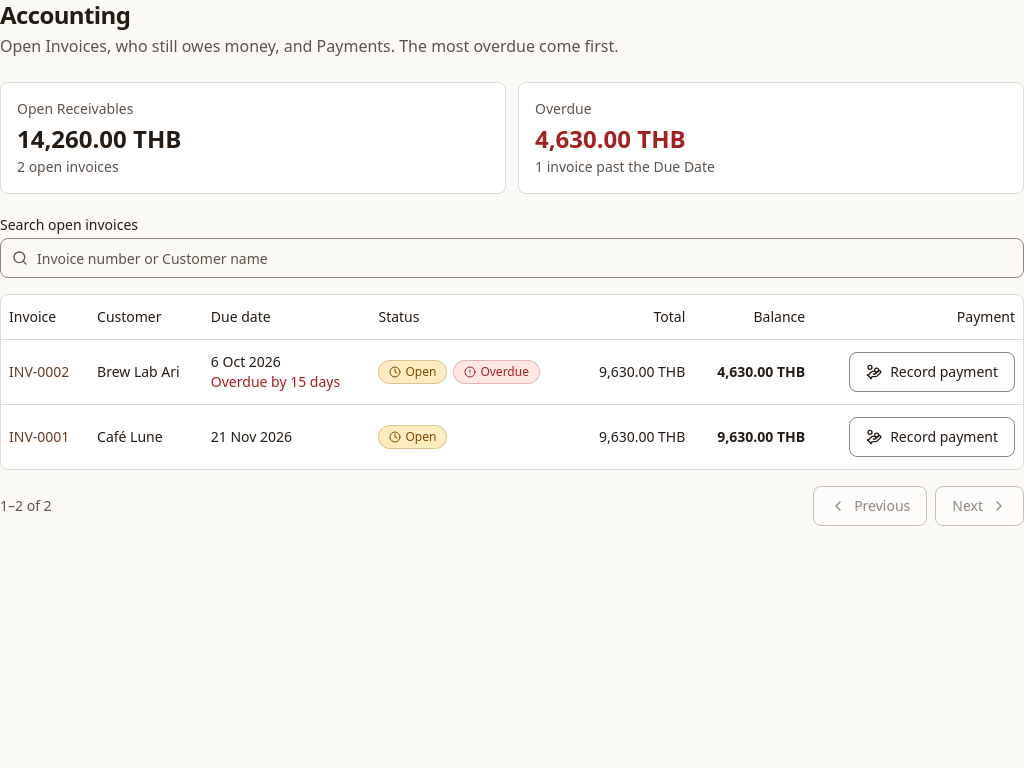
Record payment (US-4) › a partial Payment shows the Balance after it, and sends the chosen method, date and note
Click the button with aria-label "Record payment for INV-0001" at {"x": 932, "y": 436}, box [849,416,1015,456]
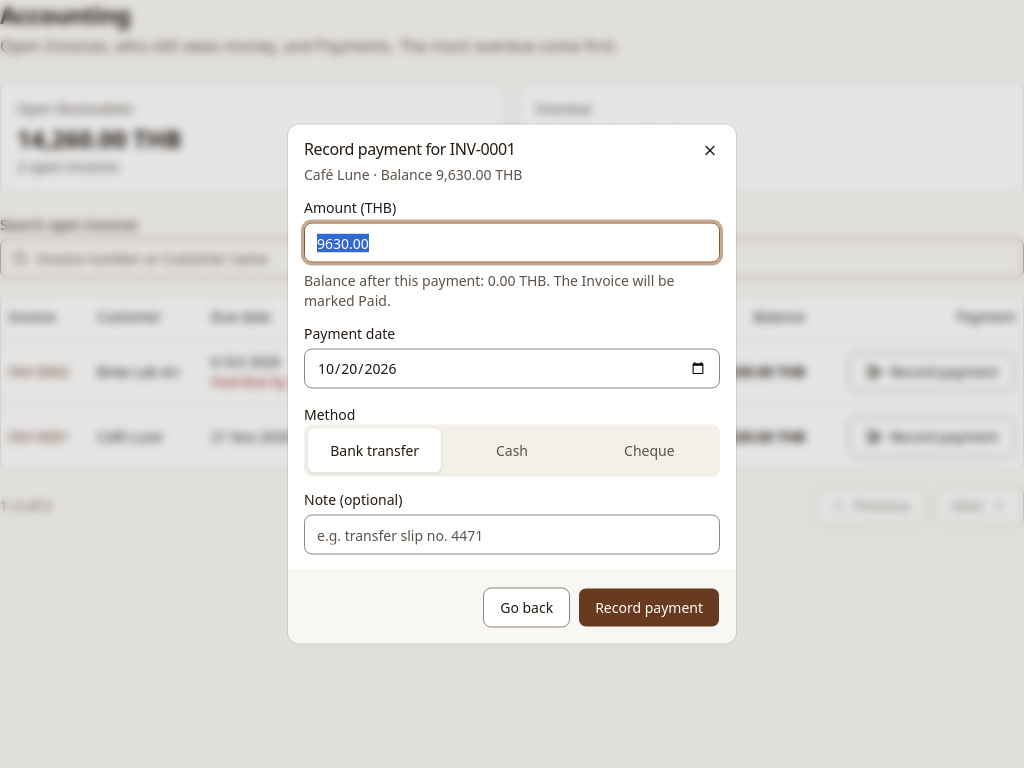
Replace the text in the field labelled "Amount (THB)" with "5000" at {"x": 512, "y": 242}, box [304,222,720,262]
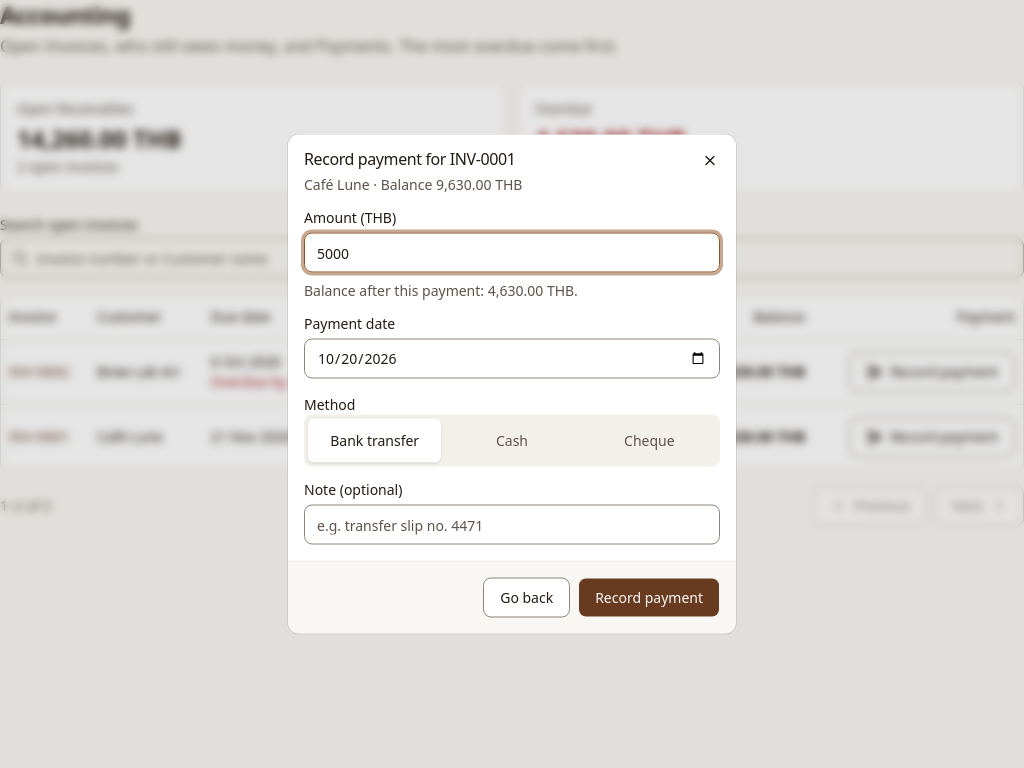
Check: the dialog shows "Balance after this payment: 4,630.00 THB", box [304,280,578,300]
Click the radio button labelled "Cash" at {"x": 512, "y": 440}, box [445,418,579,462]
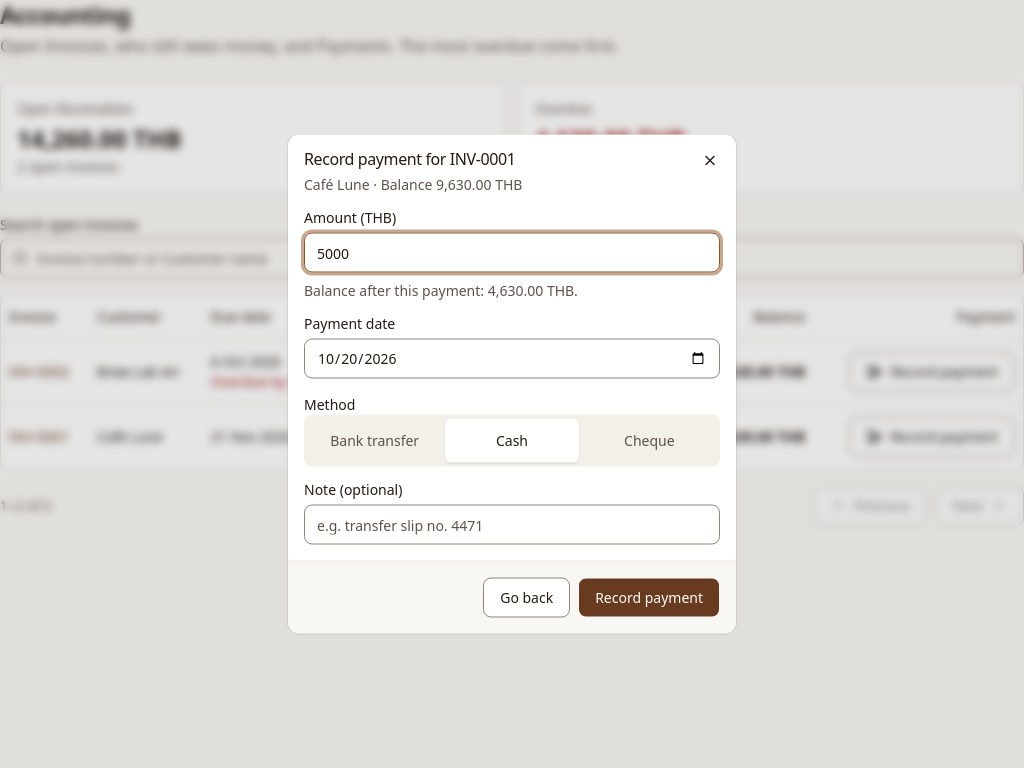
Type "2026-10-19" into the date field labelled "Payment date" at {"x": 512, "y": 358}, box [304,338,720,378]
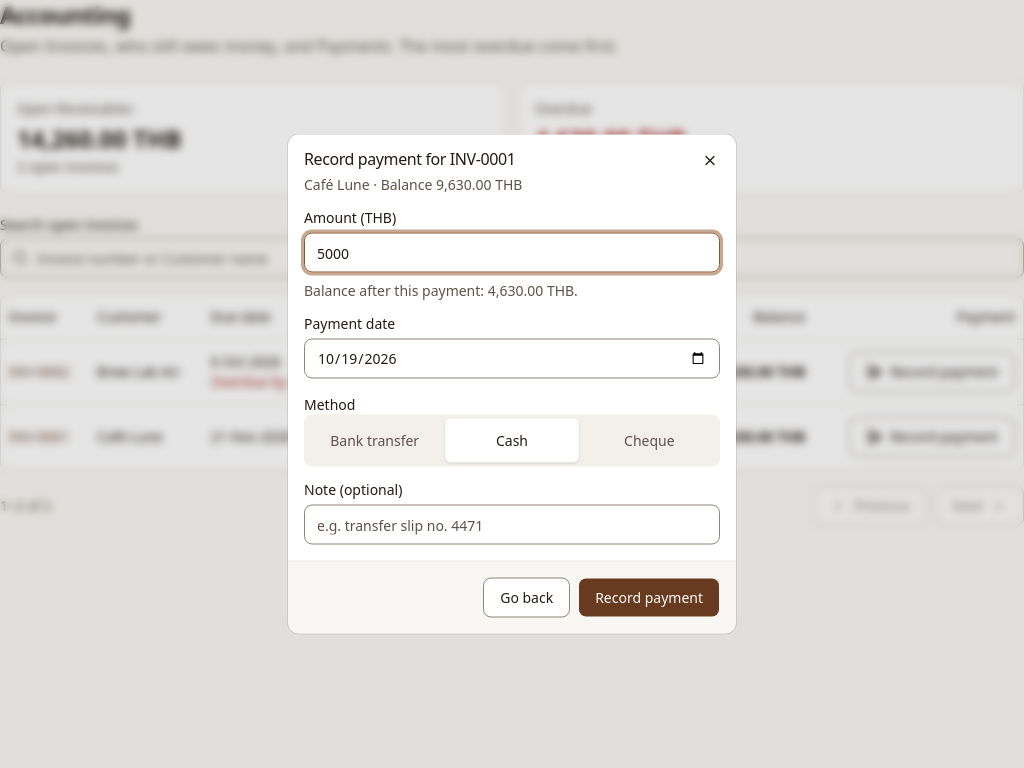
Type "Cash at the counter" into the field labelled "Note (optional)" at {"x": 512, "y": 524}, box [304,504,720,544]
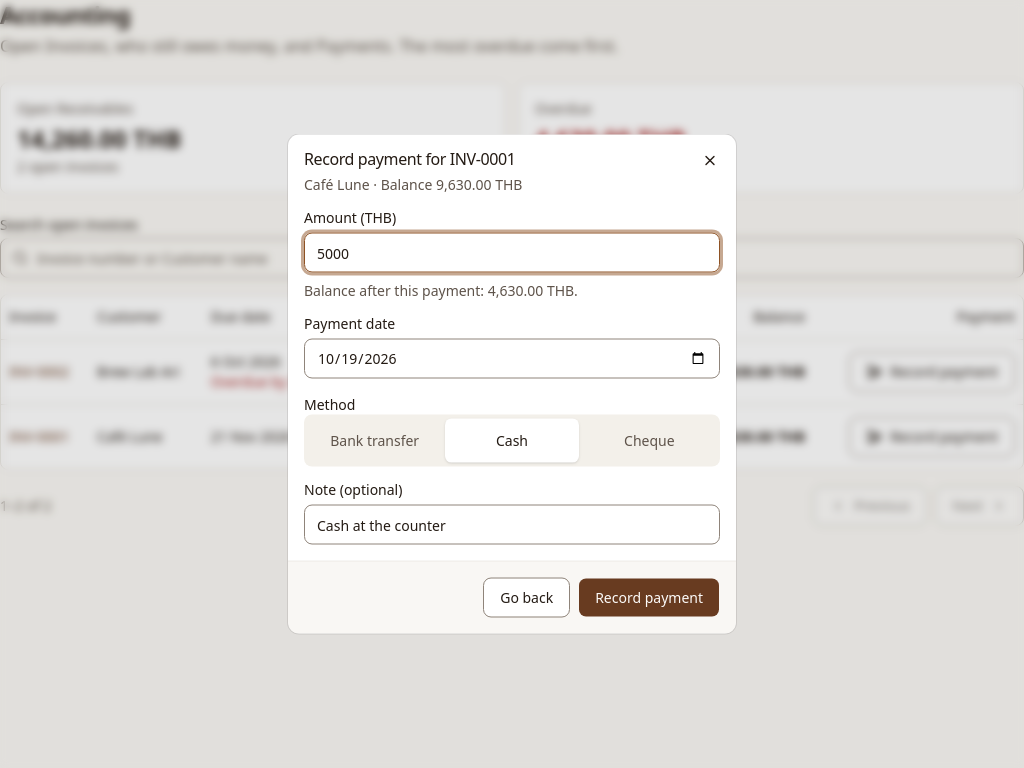
Click the button "Record payment" at {"x": 649, "y": 598}, box [578,578,720,618]
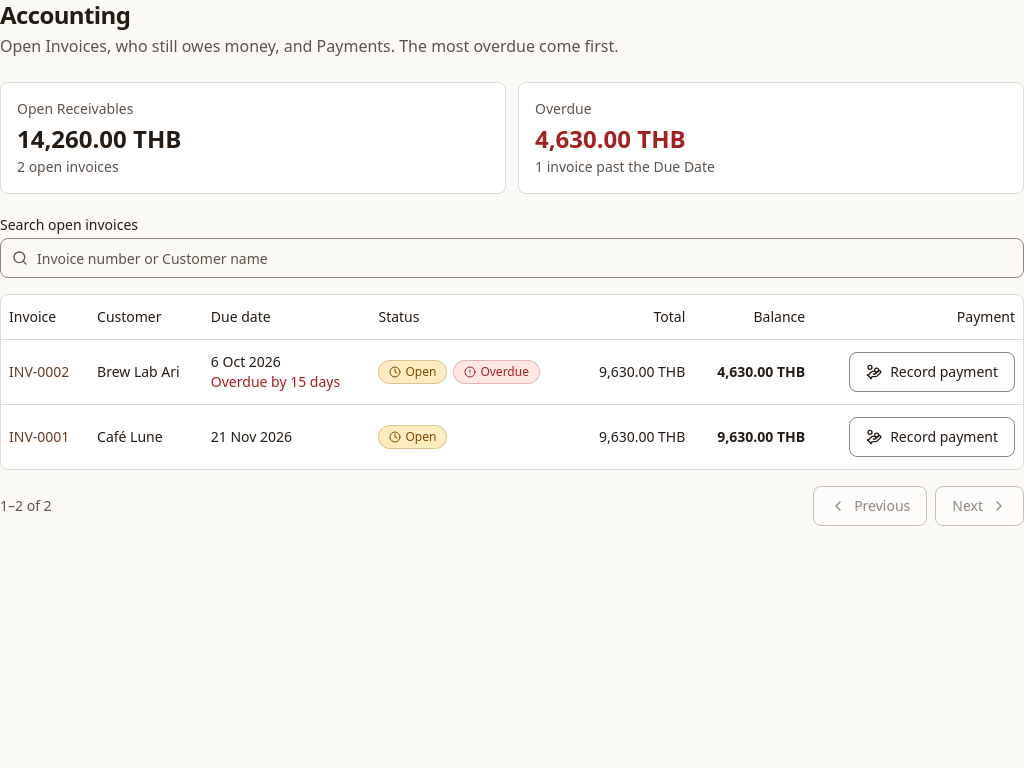
Check: the dialog is gone
